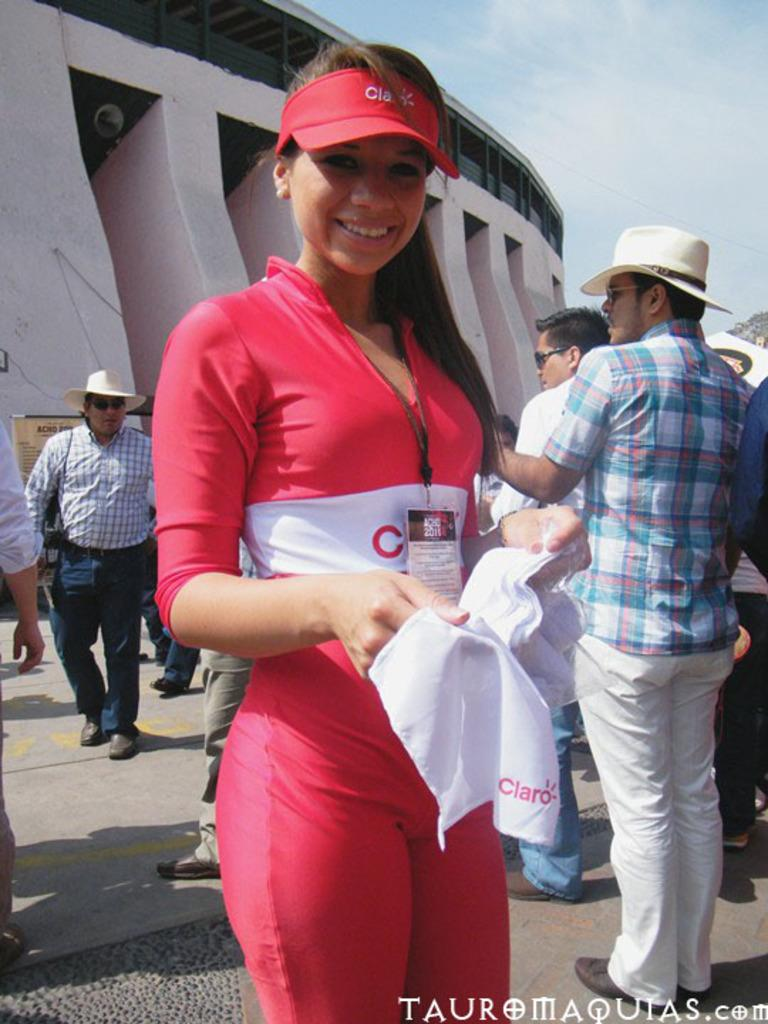Hat: (580, 220, 731, 315), (60, 364, 148, 416)
